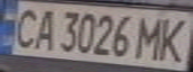0: (75, 9, 96, 55)
2: (93, 10, 118, 57)
3: (54, 7, 81, 53)
6: (109, 11, 139, 58)
A: (30, 6, 60, 52)
C: (6, 4, 42, 50)
K: (154, 14, 193, 63)
M: (133, 12, 172, 61)
